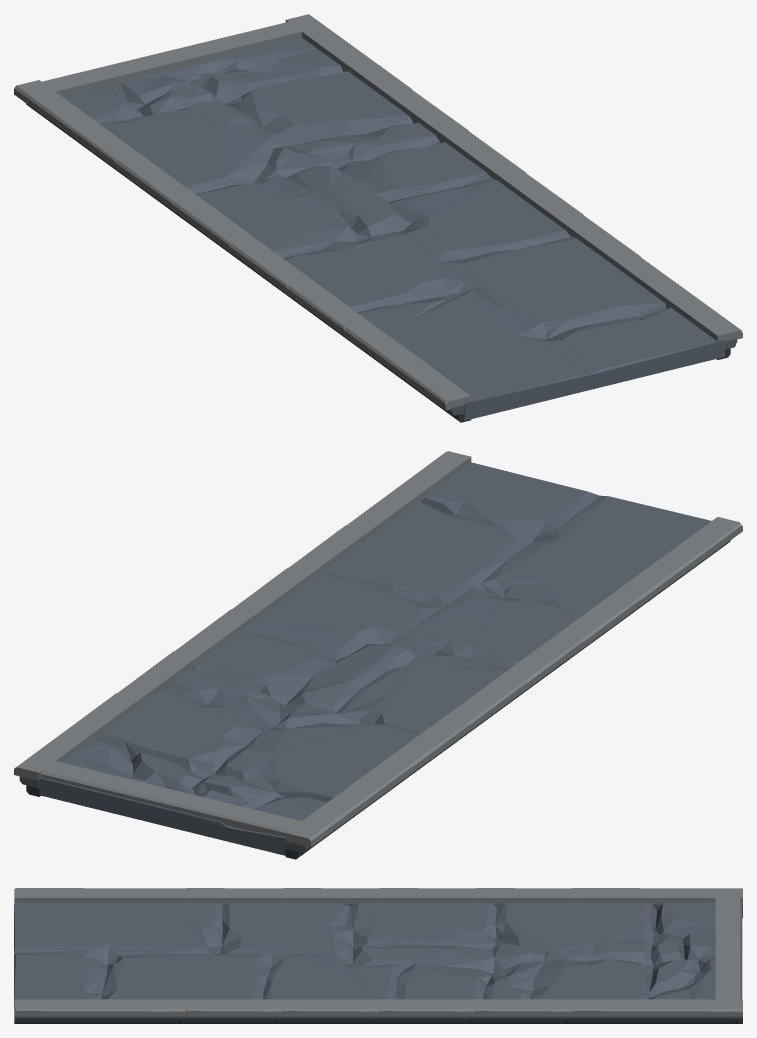
File: Bridge.fbx
3 views of the same model, one above another, from view 1: azimuth 30°, elevation 25°; view 2: azimuth 150°, elevation 25°; view 3: azimuth 270°, elevation 25° (orthographic). The views are drawn at different scales.
Parts seen in each view (by area): view 1: Bridge; view 2: Bridge; view 3: Bridge.
Part boxes in pixels (left/top/right/bottom): Bridge: left=14, top=14, right=742, bottom=422; Bridge: left=14, top=451, right=742, bottom=859; Bridge: left=14, top=888, right=742, bottom=1023.
Size of the model in its own units: 203 by 17.46 by 511.
